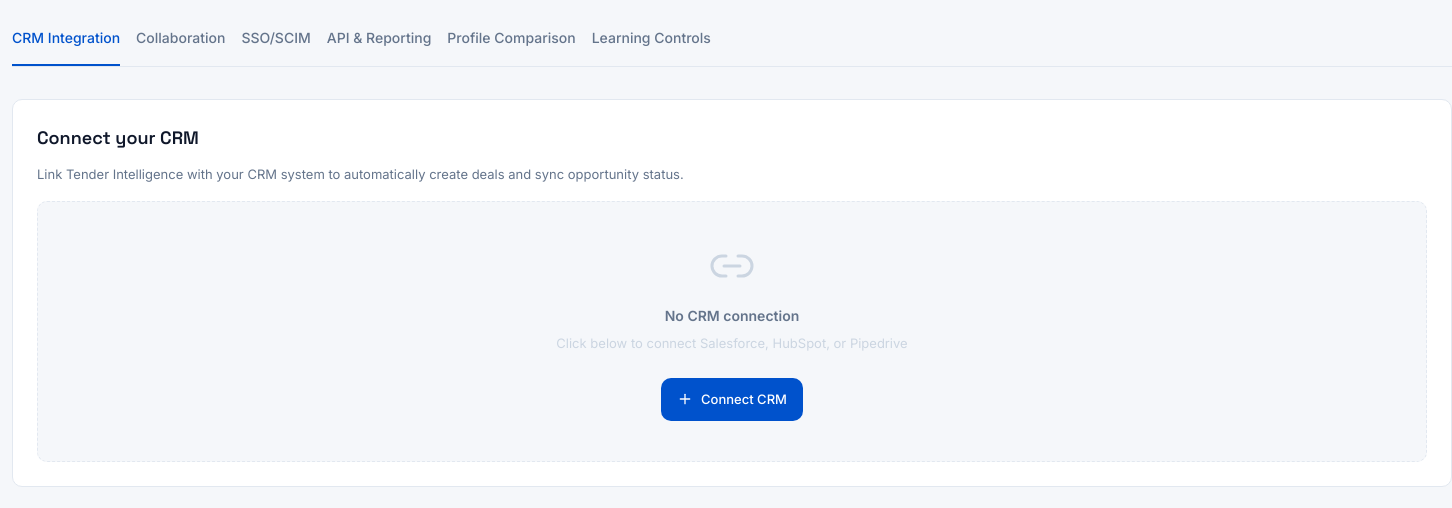
it: RoadmapFeatures › switches to SSO/SCIM tab content on click
The width and height of the screenshot is (1452, 508).
Click the tab "SSO/SCIM".
click(276, 39)  # box [241, 12, 311, 66]
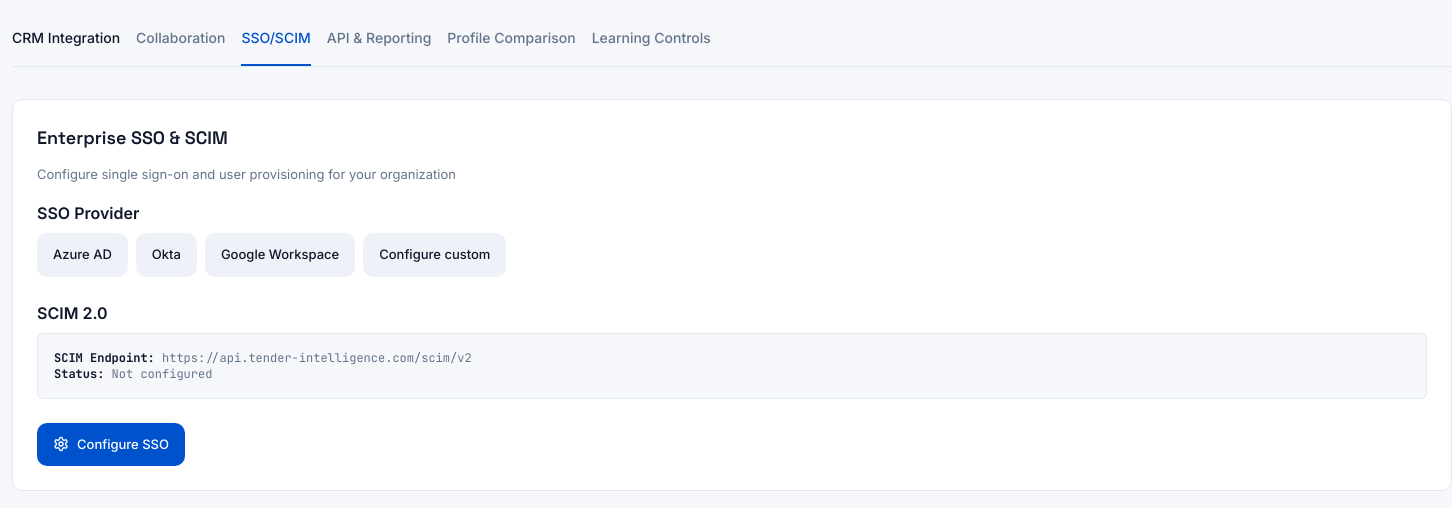
Check: the heading "Enterprise SSO & SCIM" is shown, box [37, 126, 228, 149]
Check: the button "Azure AD" is shown, box [37, 233, 128, 277]
